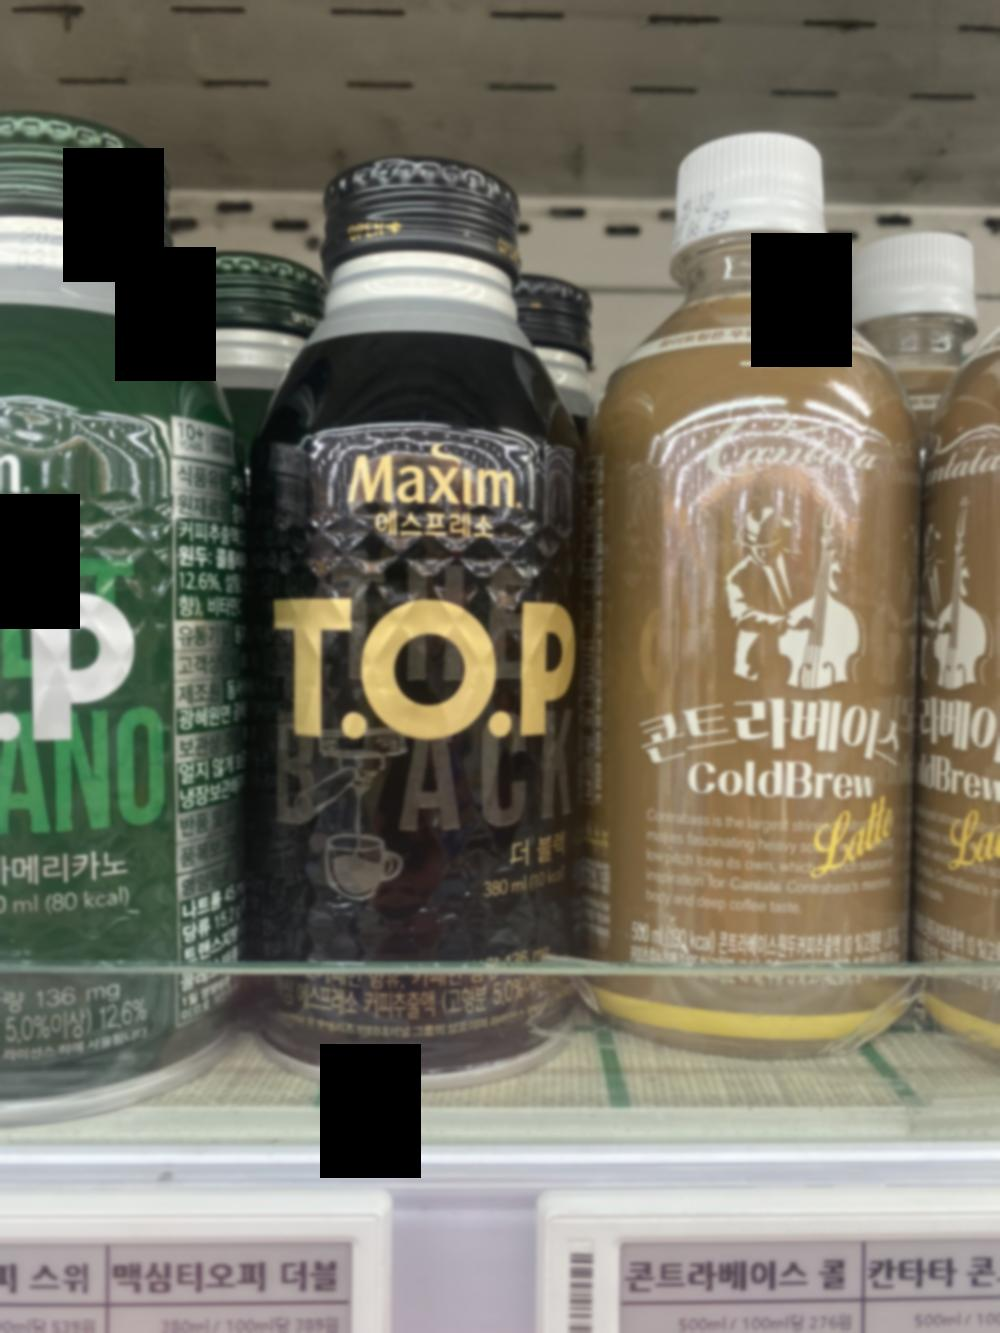TOP_black: (241, 154, 619, 1086)
